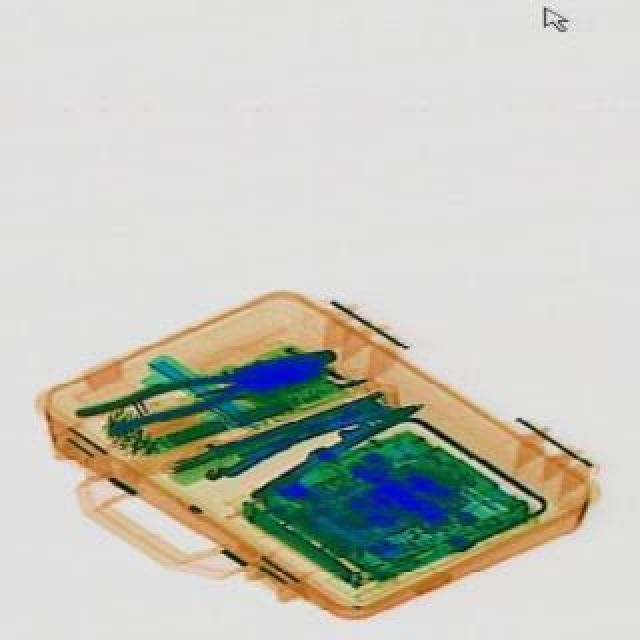wrench: (72, 334, 338, 442)
